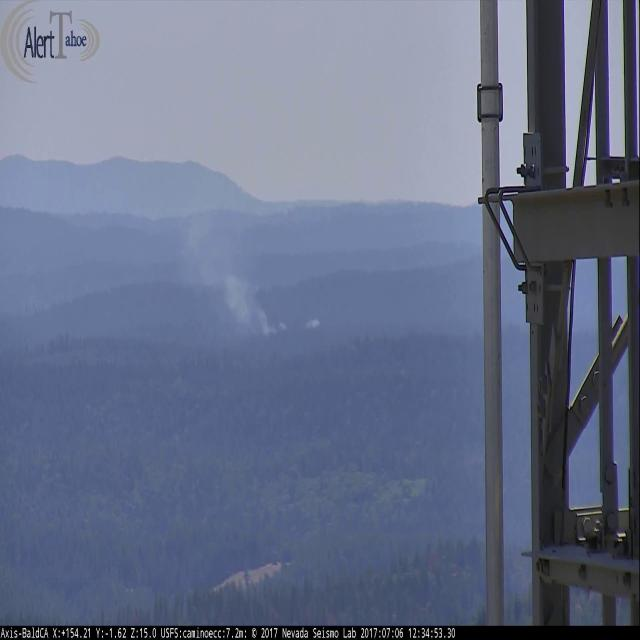smoke: (172, 174, 322, 337)
